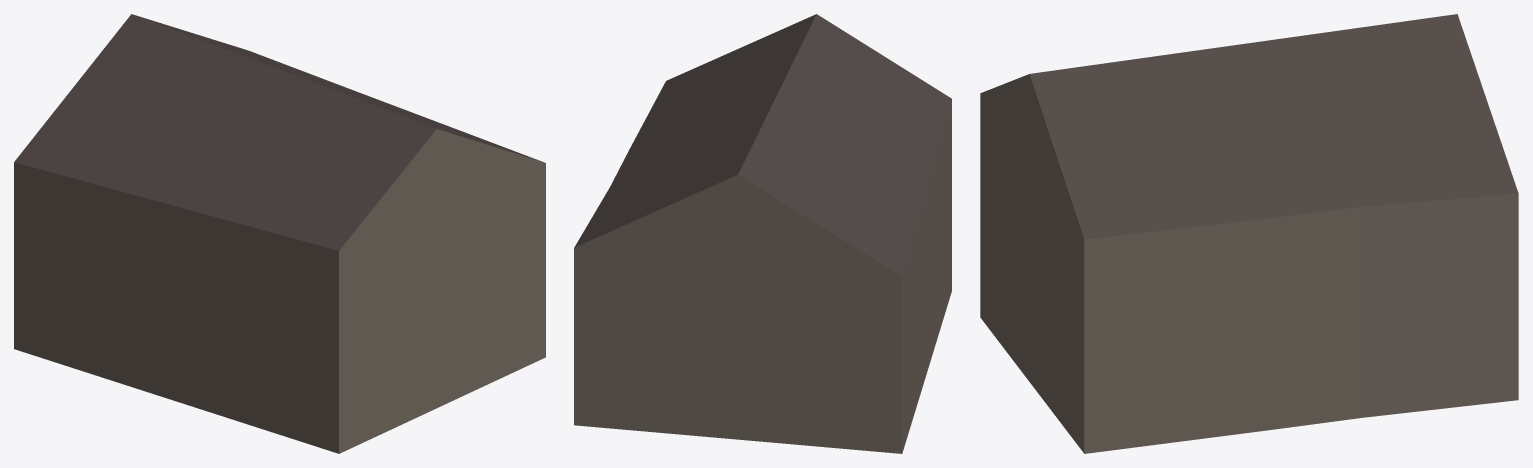
3 views of the same model, side by side, from view 1: azimuth 30°, elevation 25°; view 2: azimuth 150°, elevation 25°; view 3: azimuth 270°, elevation 25° (orthographic). The views are drawn at different scales.
Visible parts, largest first — view 1: HP-w1197562472; view 2: HP-w1197562472; view 3: HP-w1197562472.
Part boxes in pixels (left/top/right/bottom): HP-w1197562472: left=14, top=14, right=545, bottom=453; HP-w1197562472: left=574, top=14, right=951, bottom=453; HP-w1197562472: left=980, top=14, right=1518, bottom=453.
Bounding box in the file's own units: 19.67 × 13.45 × 21.31.
